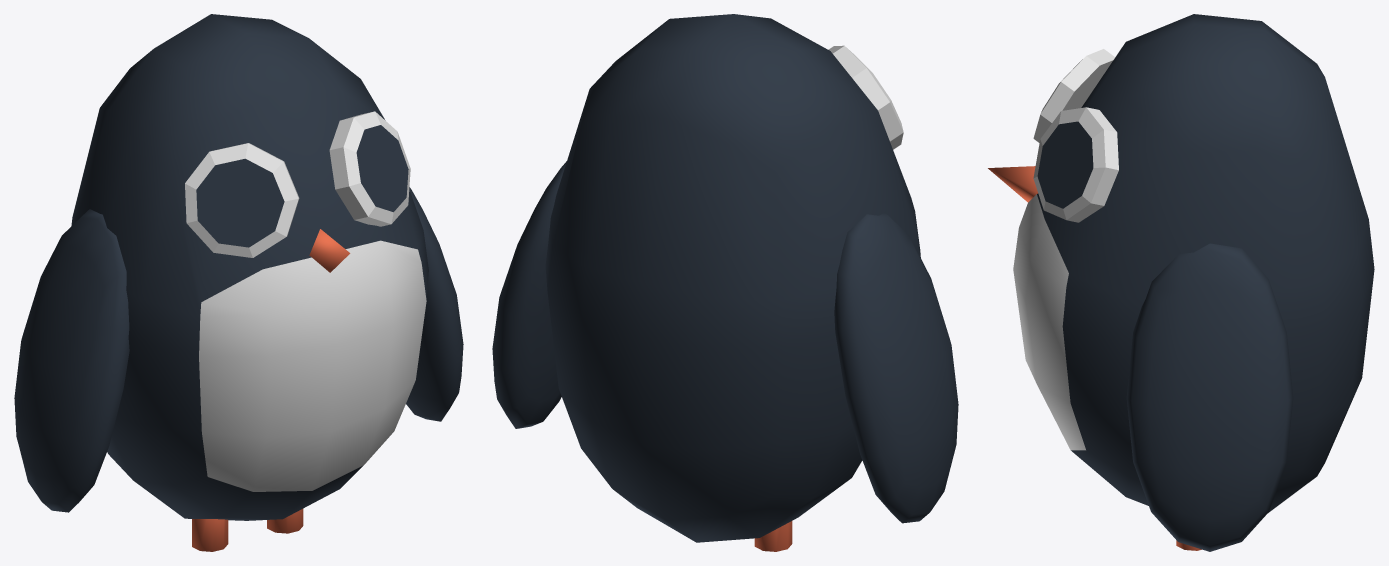
File: pengu.fbx
The picture shows the model from 3 angles, left to right: view 1: azimuth 30°, elevation 25°; view 2: azimuth 150°, elevation 25°; view 3: azimuth 270°, elevation 25°; orthographic projection. The views are drawn at different scales.
Parts seen in each view (by area): view 1: Pengu; view 2: Pengu; view 3: Pengu.
Boxes of the visible parts, x1=… form: Pengu: x1=14, y1=14, x2=463, y2=551; Pengu: x1=492, y1=14, x2=958, y2=551; Pengu: x1=988, y1=14, x2=1374, y2=551.
Bounding box in the file's own units: 220 × 257 × 180.
